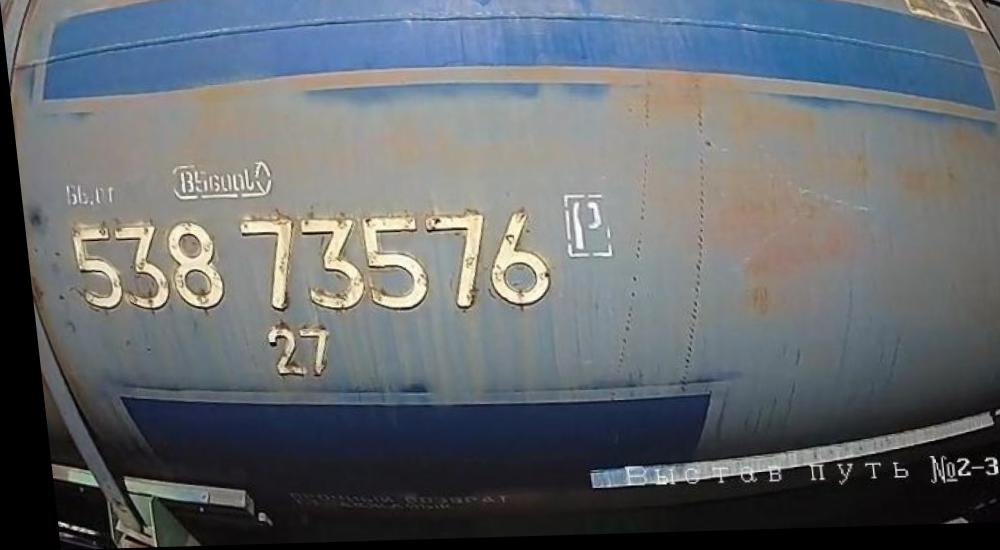Wagon-number: (61, 208, 554, 327)
